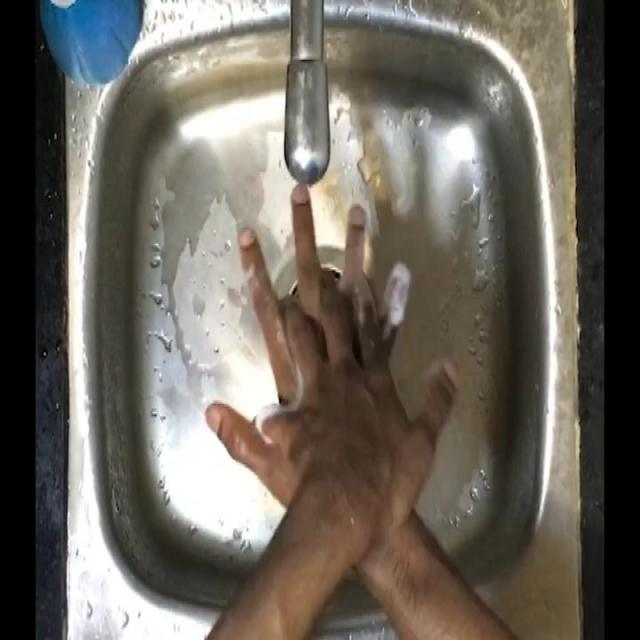step_2: (207, 173, 448, 507)
